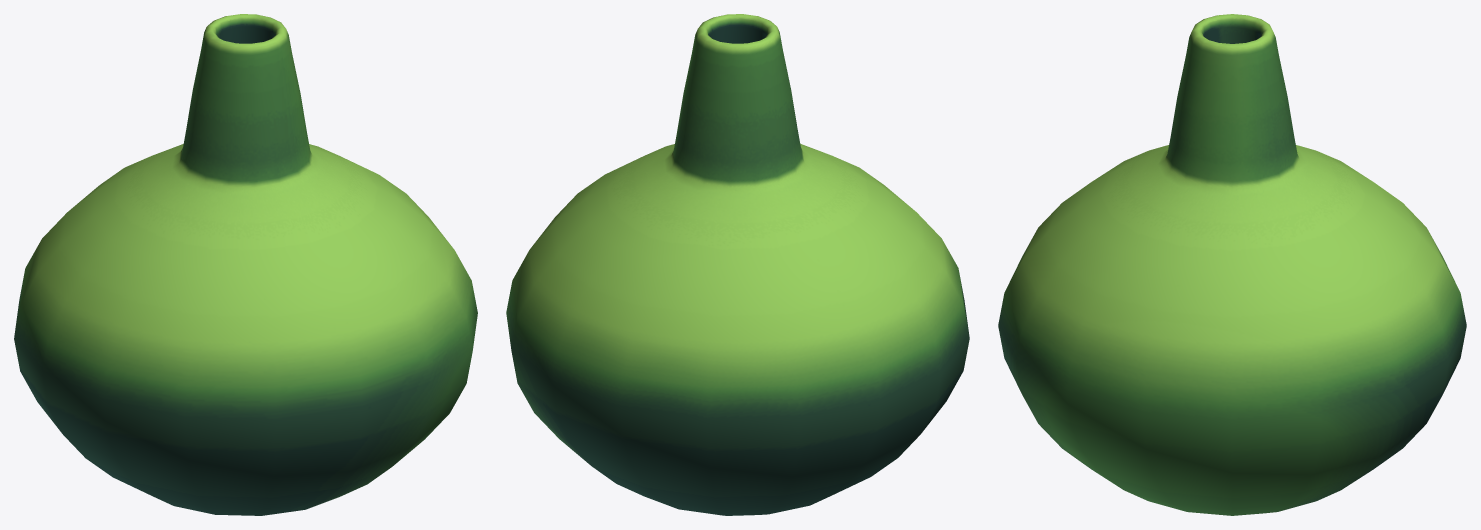
Rendered from OBS_PotionLarge_01_Mesh.fbx.
3 views of the same model, side by side, from view 1: azimuth 30°, elevation 25°; view 2: azimuth 150°, elevation 25°; view 3: azimuth 270°, elevation 25° (orthographic).
Visible parts, largest first — view 1: potionLarge; view 2: potionLarge; view 3: potionLarge.
Boxes of the visible parts, x1=… form: potionLarge: x1=14, y1=14, x2=477, y2=515; potionLarge: x1=506, y1=14, x2=969, y2=515; potionLarge: x1=998, y1=14, x2=1466, y2=515.
Bounding box in the file's own units: 0.4642 × 0.4979 × 0.4642.
